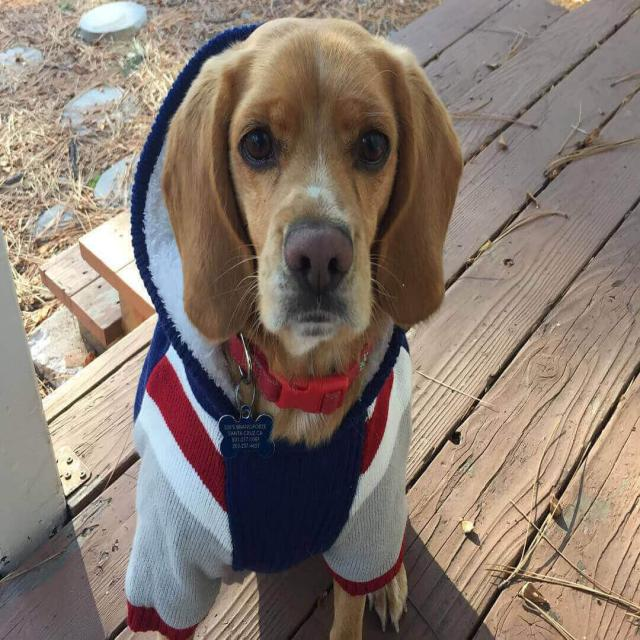dog: (130, 7, 489, 404)
